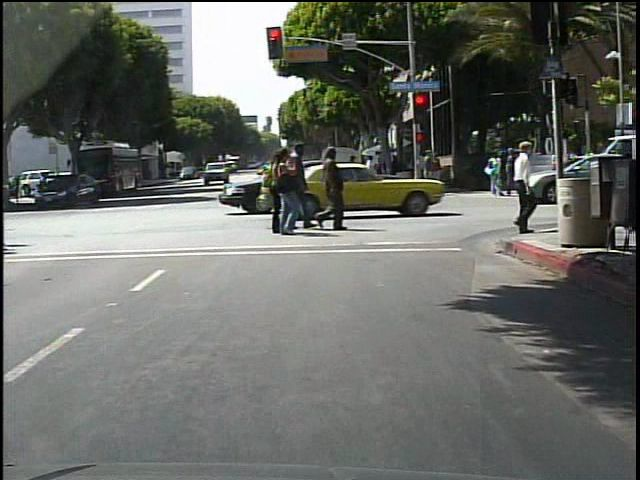person: (495, 138, 538, 240)
